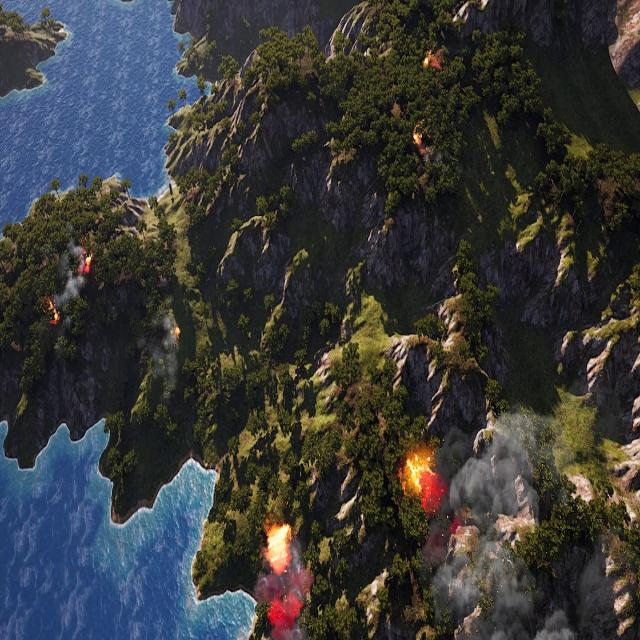fire: (401, 449, 443, 506), (266, 524, 292, 570), (423, 49, 442, 72), (47, 297, 63, 324), (81, 248, 94, 276), (412, 132, 425, 156), (174, 326, 181, 340)
smoke: (423, 392, 640, 635), (258, 508, 342, 640), (62, 241, 84, 310)
